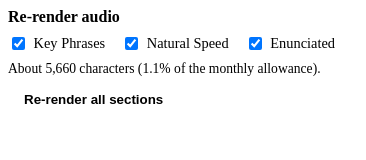
Test: RerenderAudio › a failed render is shown, not swallowed
Click the button "Re-render all sections": (94, 100) [8,85,179,114]
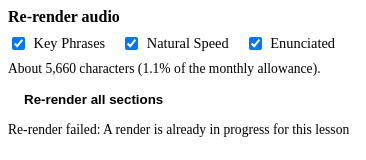
Check: the text "Re-render failed: A render is already in progress for this lesson" is shown, box [8,122,349,137]
